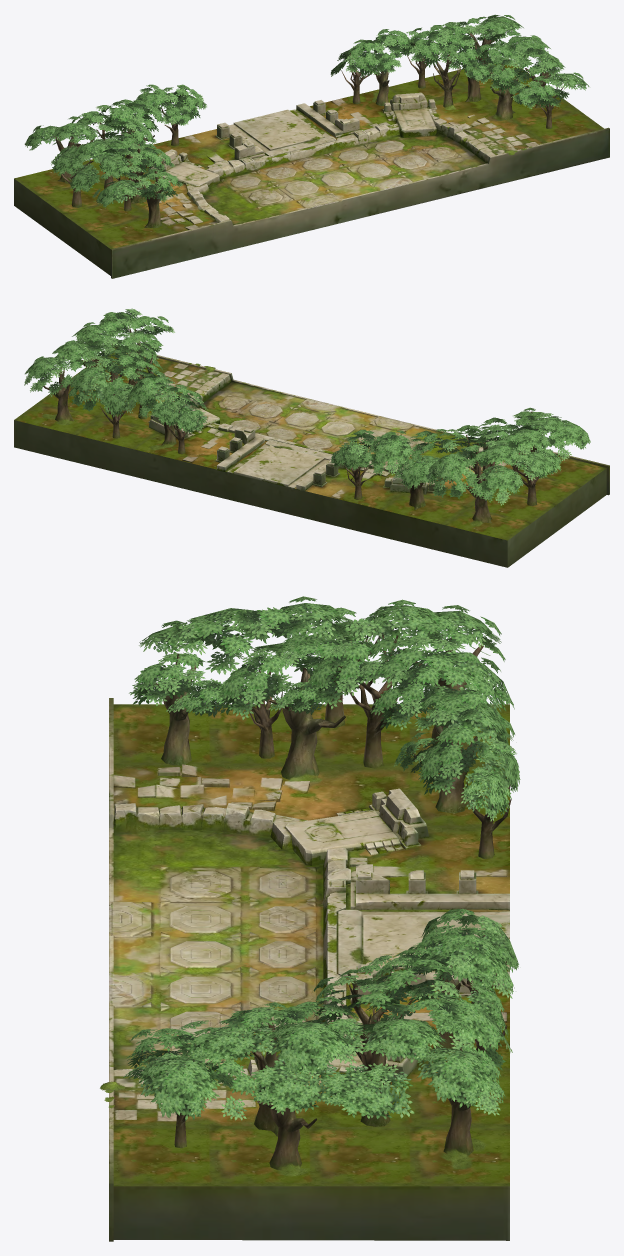
File: forest_near.glb
The picture shows the model from 3 angles, top to bottom: view 1: azimuth 30°, elevation 25°; view 2: azimuth 150°, elevation 25°; view 3: azimuth 270°, elevation 25°; orthographic projection. The views are drawn at different scales.
Visible parts, largest first — view 1: ground_boundary_1_78ae, ground_boundary_0_78ae, frame01_0_78f4, leaf01_0_9c7b, n_l_base_01_0_7b44, n_r_base_02_0_8e41, woods01_lr_0_7f59, leaf02_l_04_0_787d, leaf02_l_01_0_8f81, leaf02_l_03_0_9716, leaf02_l_06_0_99e8, leaf02_l_08_0_7990 (+13 smaller); view 2: leaf01_0_9c7b, ground_boundary_0_78ae, ground_boundary_1_78ae, frame01_0_78f4, n_l_base_01_0_7b44, woods01_lr_0_7f59, n_r_base_02_0_8e41, leaf02_l_08_0_7990, leaf02_l_03_0_9716, leaf02_l_01_0_8f81, leaf02_l_06_0_99e8, leaf02_r_03_0_9f18 (+2 smaller); view 3: ground_boundary_1_78ae, leaf01_0_9c7b, frame01_0_78f4, ground_boundary_0_78ae, n_r_base_02_0_8e41, n_l_base_01_0_7b44, woods01_lr_0_7f59, leaf02_r_03_0_9f18, leaf02_r_04_0_78fe, leaf02_r_06_0_923a, leaf02_r_01_0_967e, leaf02_r_08_0_8122 (+13 smaller).
Boxes of the visible parts, left/top/right/bottom form: ground_boundary_1_78ae: left=14, top=58, right=603, bottom=248; ground_boundary_0_78ae: left=14, top=127, right=609, bottom=278; frame01_0_78f4: left=148, top=92, right=495, bottom=222; leaf01_0_9c7b: left=24, top=14, right=589, bottom=207; n_l_base_01_0_7b44: left=277, top=132, right=486, bottom=199; n_r_base_02_0_8e41: left=203, top=165, right=342, bottom=225; woods01_lr_0_7f59: left=53, top=33, right=563, bottom=211; leaf02_l_04_0_787d: left=436, top=33, right=490, bottom=72; leaf02_l_01_0_8f81: left=344, top=40, right=390, bottom=77; leaf02_l_03_0_9716: left=409, top=29, right=450, bottom=67; leaf02_l_06_0_99e8: left=484, top=56, right=528, bottom=92; leaf02_l_08_0_7990: left=523, top=75, right=569, bottom=107; leaf01_0_9c7b: left=24, top=309, right=590, bottom=505; ground_boundary_0_78ae: left=14, top=344, right=609, bottom=567; ground_boundary_1_78ae: left=14, top=348, right=606, bottom=540; frame01_0_78f4: left=148, top=373, right=496, bottom=494; n_l_base_01_0_7b44: left=198, top=381, right=377, bottom=452; woods01_lr_0_7f59: left=43, top=327, right=539, bottom=523; n_r_base_02_0_8e41: left=331, top=416, right=481, bottom=465; leaf02_l_08_0_7990: left=134, top=316, right=174, bottom=335; leaf02_l_03_0_9716: left=124, top=352, right=167, bottom=381; leaf02_l_01_0_8f81: left=167, top=385, right=207, bottom=409; leaf02_l_06_0_99e8: left=123, top=331, right=159, bottom=358; leaf02_r_03_0_9f18: left=408, top=429, right=450, bottom=449; ground_boundary_1_78ae: left=113, top=704, right=509, bottom=1186; leaf01_0_9c7b: left=139, top=596, right=520, bottom=1120; frame01_0_78f4: left=113, top=788, right=509, bottom=1078; ground_boundary_0_78ae: left=109, top=698, right=509, bottom=1241; n_r_base_02_0_8e41: left=109, top=830, right=323, bottom=952; n_l_base_01_0_7b44: left=109, top=925, right=323, bottom=1071; woods01_lr_0_7f59: left=167, top=633, right=511, bottom=1169; leaf02_r_03_0_9f18: left=370, top=646, right=454, bottom=730; leaf02_r_04_0_78fe: left=308, top=636, right=400, bottom=709; leaf02_r_06_0_923a: left=218, top=648, right=300, bottom=719; leaf02_r_01_0_967e: left=418, top=724, right=496, bottom=795; leaf02_r_08_0_8122: left=129, top=652, right=205, bottom=705.
Size of the model in its own units: 119 by 22.46 by 44.22.
Materials: 4 (4 with a texture image).
